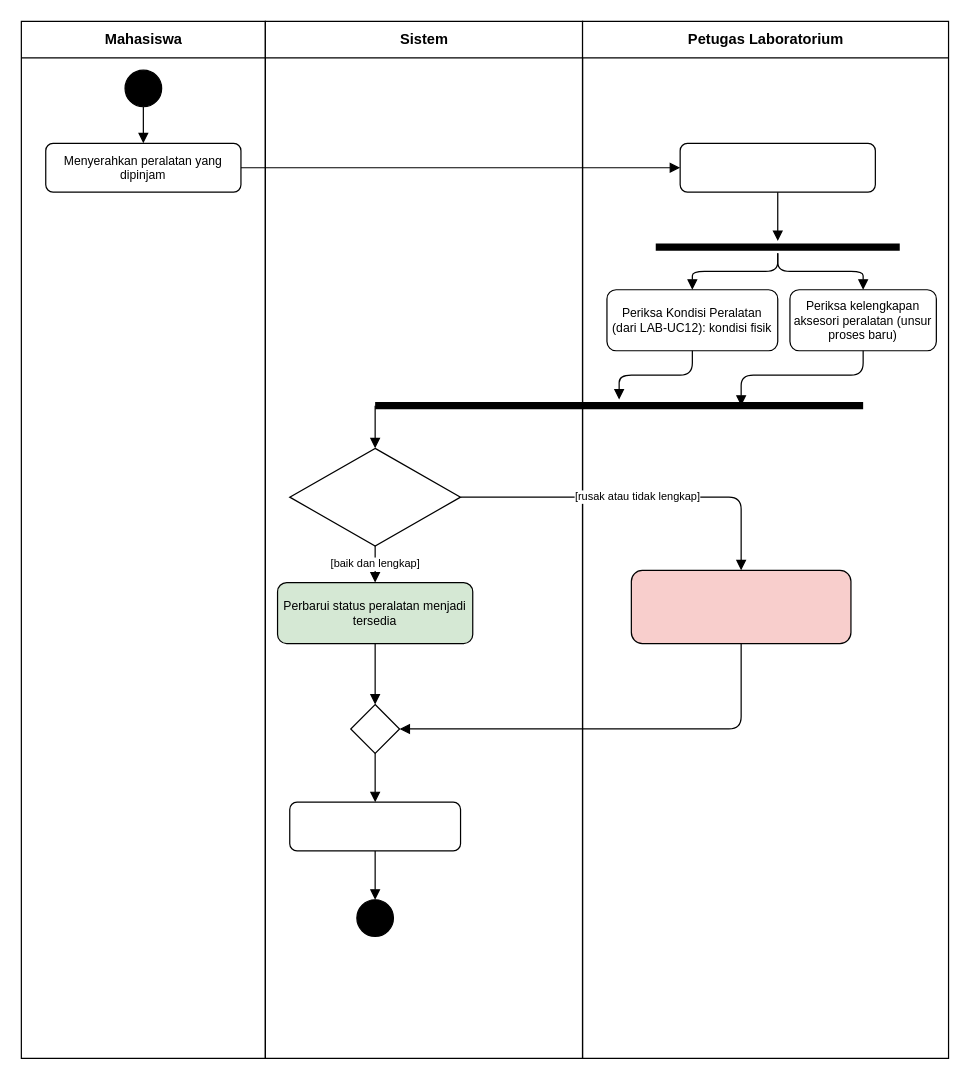
The diagram is 970 pixels wide and 1080 high, and some of its shapes have lost their labels. The centre of each missing label's shape, as x and y in pixels:
Catat kerusakan atau kekurangan dan jadwalkan perbaikan: pixel 740 606
Catat Pengembalian Peralatan (LAB-UC11): pixel 777 167
Kondisi peralatan baik dan lengkap?: pixel 375 496
Menutup transaksi peminjaman: pixel 375 826
